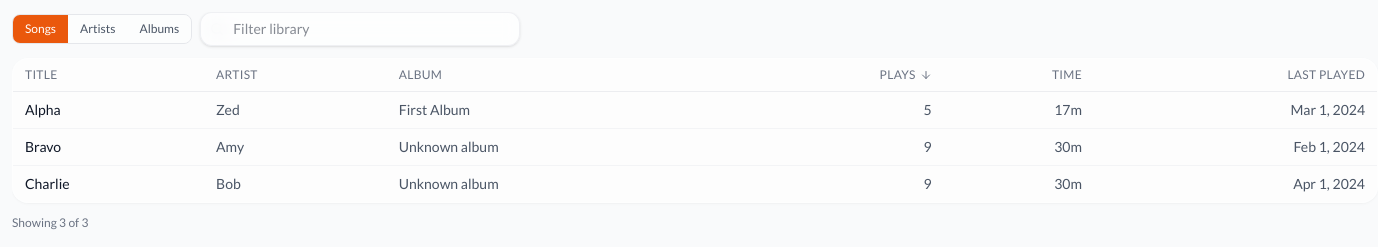
Test: MusicLibrarySection › searches on the server once typing pauses, not on every keystroke
Step 1. Type "first album" into the field labelled "Filter library" → x=360, y=29, box [200,12,520,46]
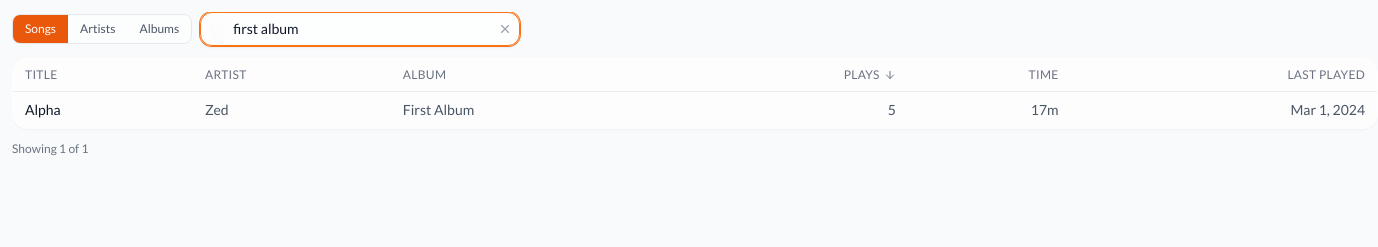
Step 2. Replace the text in the field named "Filter library" with "zzz" → x=360, y=29, box [200,12,520,46]
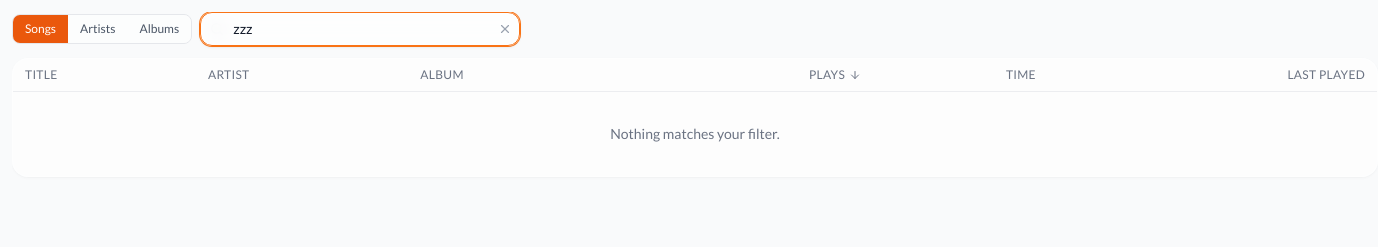
Check: the text "Nothing matches your filter." is shown, box [13,92,1377,176]
